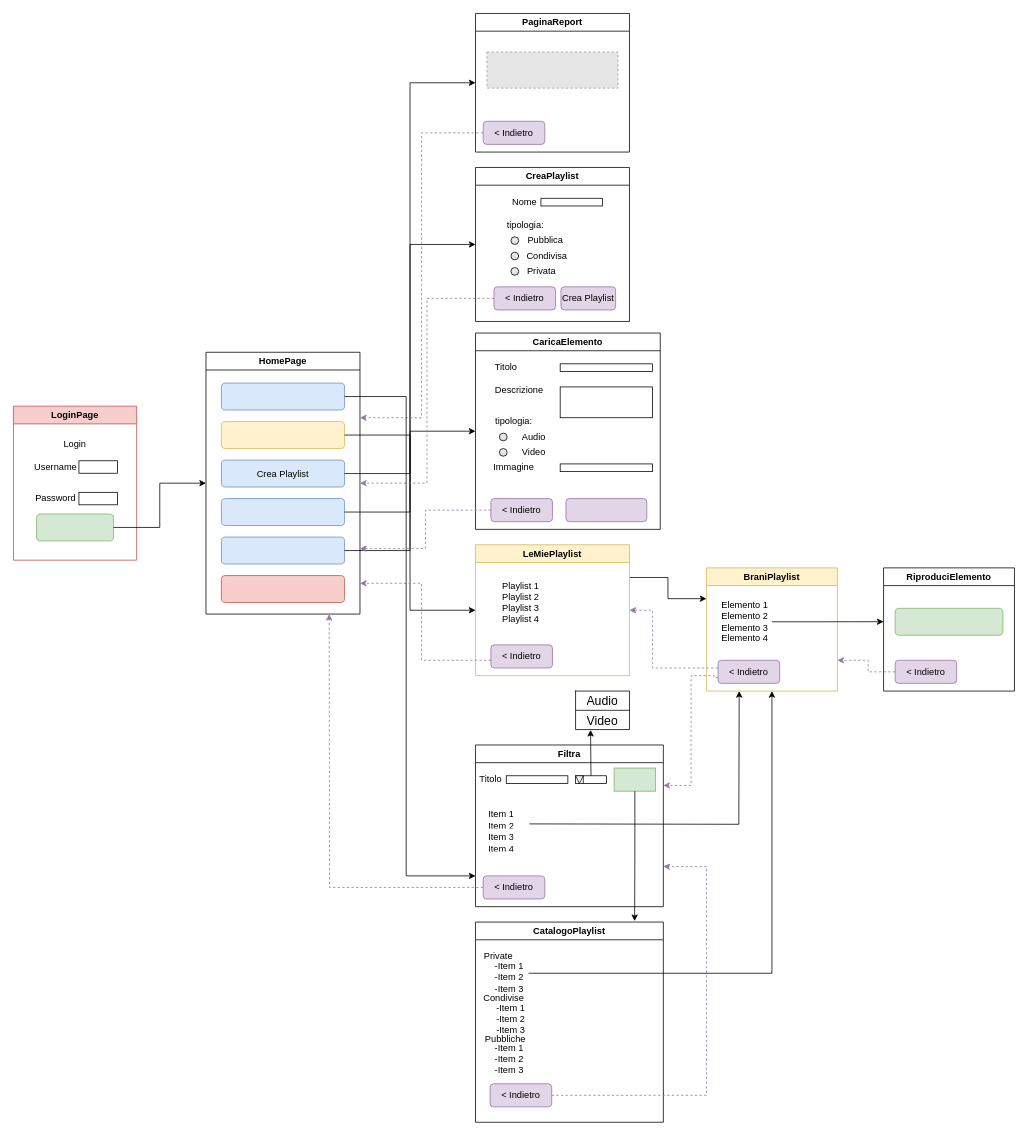
Image size: 1028x1136. Some labels were removed from this diagram. Grey dashed boxes stand in for pictures. Here are the shapes that lost their labels. From the top down, the centre of each, then its label:
pixel 283 396: Cerca / Filtra
pixel 283 435: Le Mie Playlist
pixel 75 527: Accedi
pixel 283 512: Nuovo Elemento
pixel 606 510: Crea Elemento
pixel 283 550: Report Statistiche
pixel 283 589: Logout
pixel 948 621: Riproduci Elemento
pixel 634 779: Bottone Playlist
